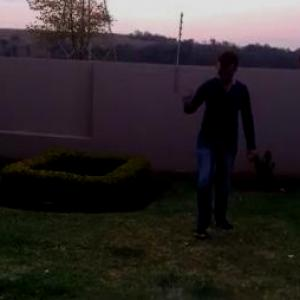takeoff-hand: (166, 80, 204, 120)
